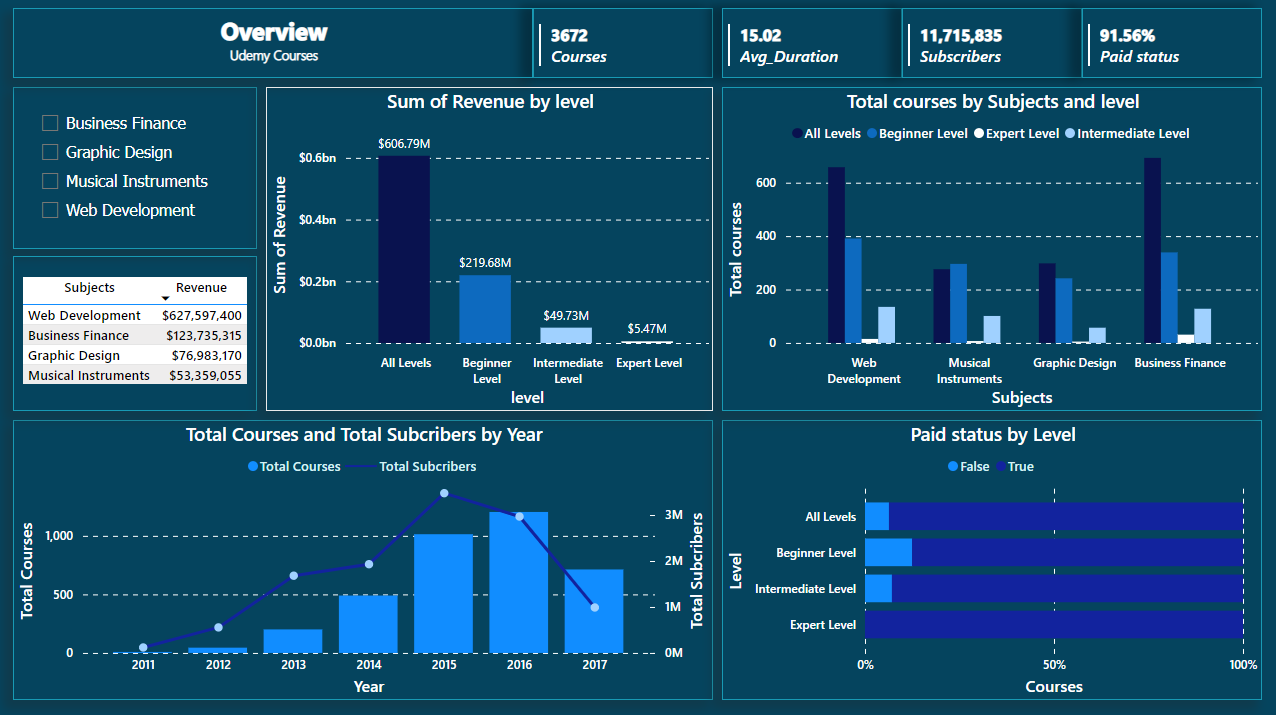

The dashboard page shown, as its layout file describes it:
{"tool":"powerbi","page":{"name":"Overviews","canvas":[1280,720],"ordinal":0},"visuals":[{"type":"lineStackedColumnComboChart","fields":{"Category":["2  Udemy_courses.published_timestamp.Variation.Date Hierarchy.Year","2  Udemy_courses.published_timestamp.Variation.Date Hierarchy.Month"],"Y2":["Sum(2  Udemy_courses.num_subscribers)"],"Y":["CountNonNull(Udemy_courses.course_title)"]},"box":[15,422,700,280],"z":0},{"type":"hundredPercentStackedBarChart","title":"Paid status each Level","fields":{"Category":["Udemy_courses.level"],"Series":["Udemy_courses.is_paid"],"Y":["CountNonNull(Udemy_courses.course_id)"]},"box":[724,422,540,280],"z":1000},{"type":"multiRowCard","title":"Courses","fields":{"Values":["CountNonNull(2  Udemy_courses.course_title)"]},"box":[535,10,180,70],"z":2000},{"type":"multiRowCard","fields":{"Values":["2  Udemy_courses.Average of content_duration average per course_title"]},"box":[723.8,10,180,70],"z":3000},{"type":"multiRowCard","fields":{"Values":["Sum(2  Udemy_courses.num_subscribers)"]},"box":[903.8,10,180,70],"z":4000},{"type":"slicer","title":"Subjects","fields":{"Values":["2  Udemy_courses.subject"]},"box":[15,89,244,162],"z":5000},{"type":"textbox","box":[15,10,520,70],"z":6000},{"type":"tableEx","fields":{"Values":["Udemy_courses.subject","Sum(Udemy_courses.Revenue)"]},"box":[15,257.9,244.3,155],"z":7000},{"type":"clusteredColumnChart","fields":{"Category":["Udemy_courses.subject"],"Y":["CountNonNull(Udemy_courses.course_title)"],"Series":["Udemy_courses.level"]},"box":[724,89,540,324],"z":8000},{"type":"multiRowCard","fields":{"Values":["Udemy_courses.Paid status"]},"box":[1083.8,10,180,70],"z":9000},{"type":"columnChart","fields":{"Y":["Sum(Udemy_courses.Revenue)"],"Category":["Udemy_courses.level"]},"box":[268,89,447,324],"z":10000}]}

Visuals, with their boxes in screenshot pixels (x1, y1, x2, y2), scaled from the page's 1280x720 canvas onto the 1276x715 screenshot:
lineStackedColumnComboChart - 2  Udemy_courses.published_timestamp.Variation.Date Hierarchy.Year x 2  Udemy_courses.published_timestamp.Variation.Date Hierarchy.Month: 15,419,713,697
"Paid status each Level" hundredPercentStackedBarChart: 722,419,1260,697
"Courses" multiRowCard: 533,10,713,79
multiRowCard - 2  Udemy_courses.Average of content_duration average per course_title: 722,10,901,79
multiRowCard - Sum(2  Udemy_courses.num_subscribers): 901,10,1080,79
"Subjects" slicer: 15,88,258,249
textbox: 15,10,533,79
tableEx - Udemy_courses.subject x Sum(Udemy_courses.Revenue): 15,256,258,410
clusteredColumnChart - Udemy_courses.subject x CountNonNull(Udemy_courses.course_title): 722,88,1260,410
multiRowCard - Udemy_courses.Paid status: 1080,10,1260,79
columnChart - Sum(Udemy_courses.Revenue) x Udemy_courses.level: 267,88,713,410
